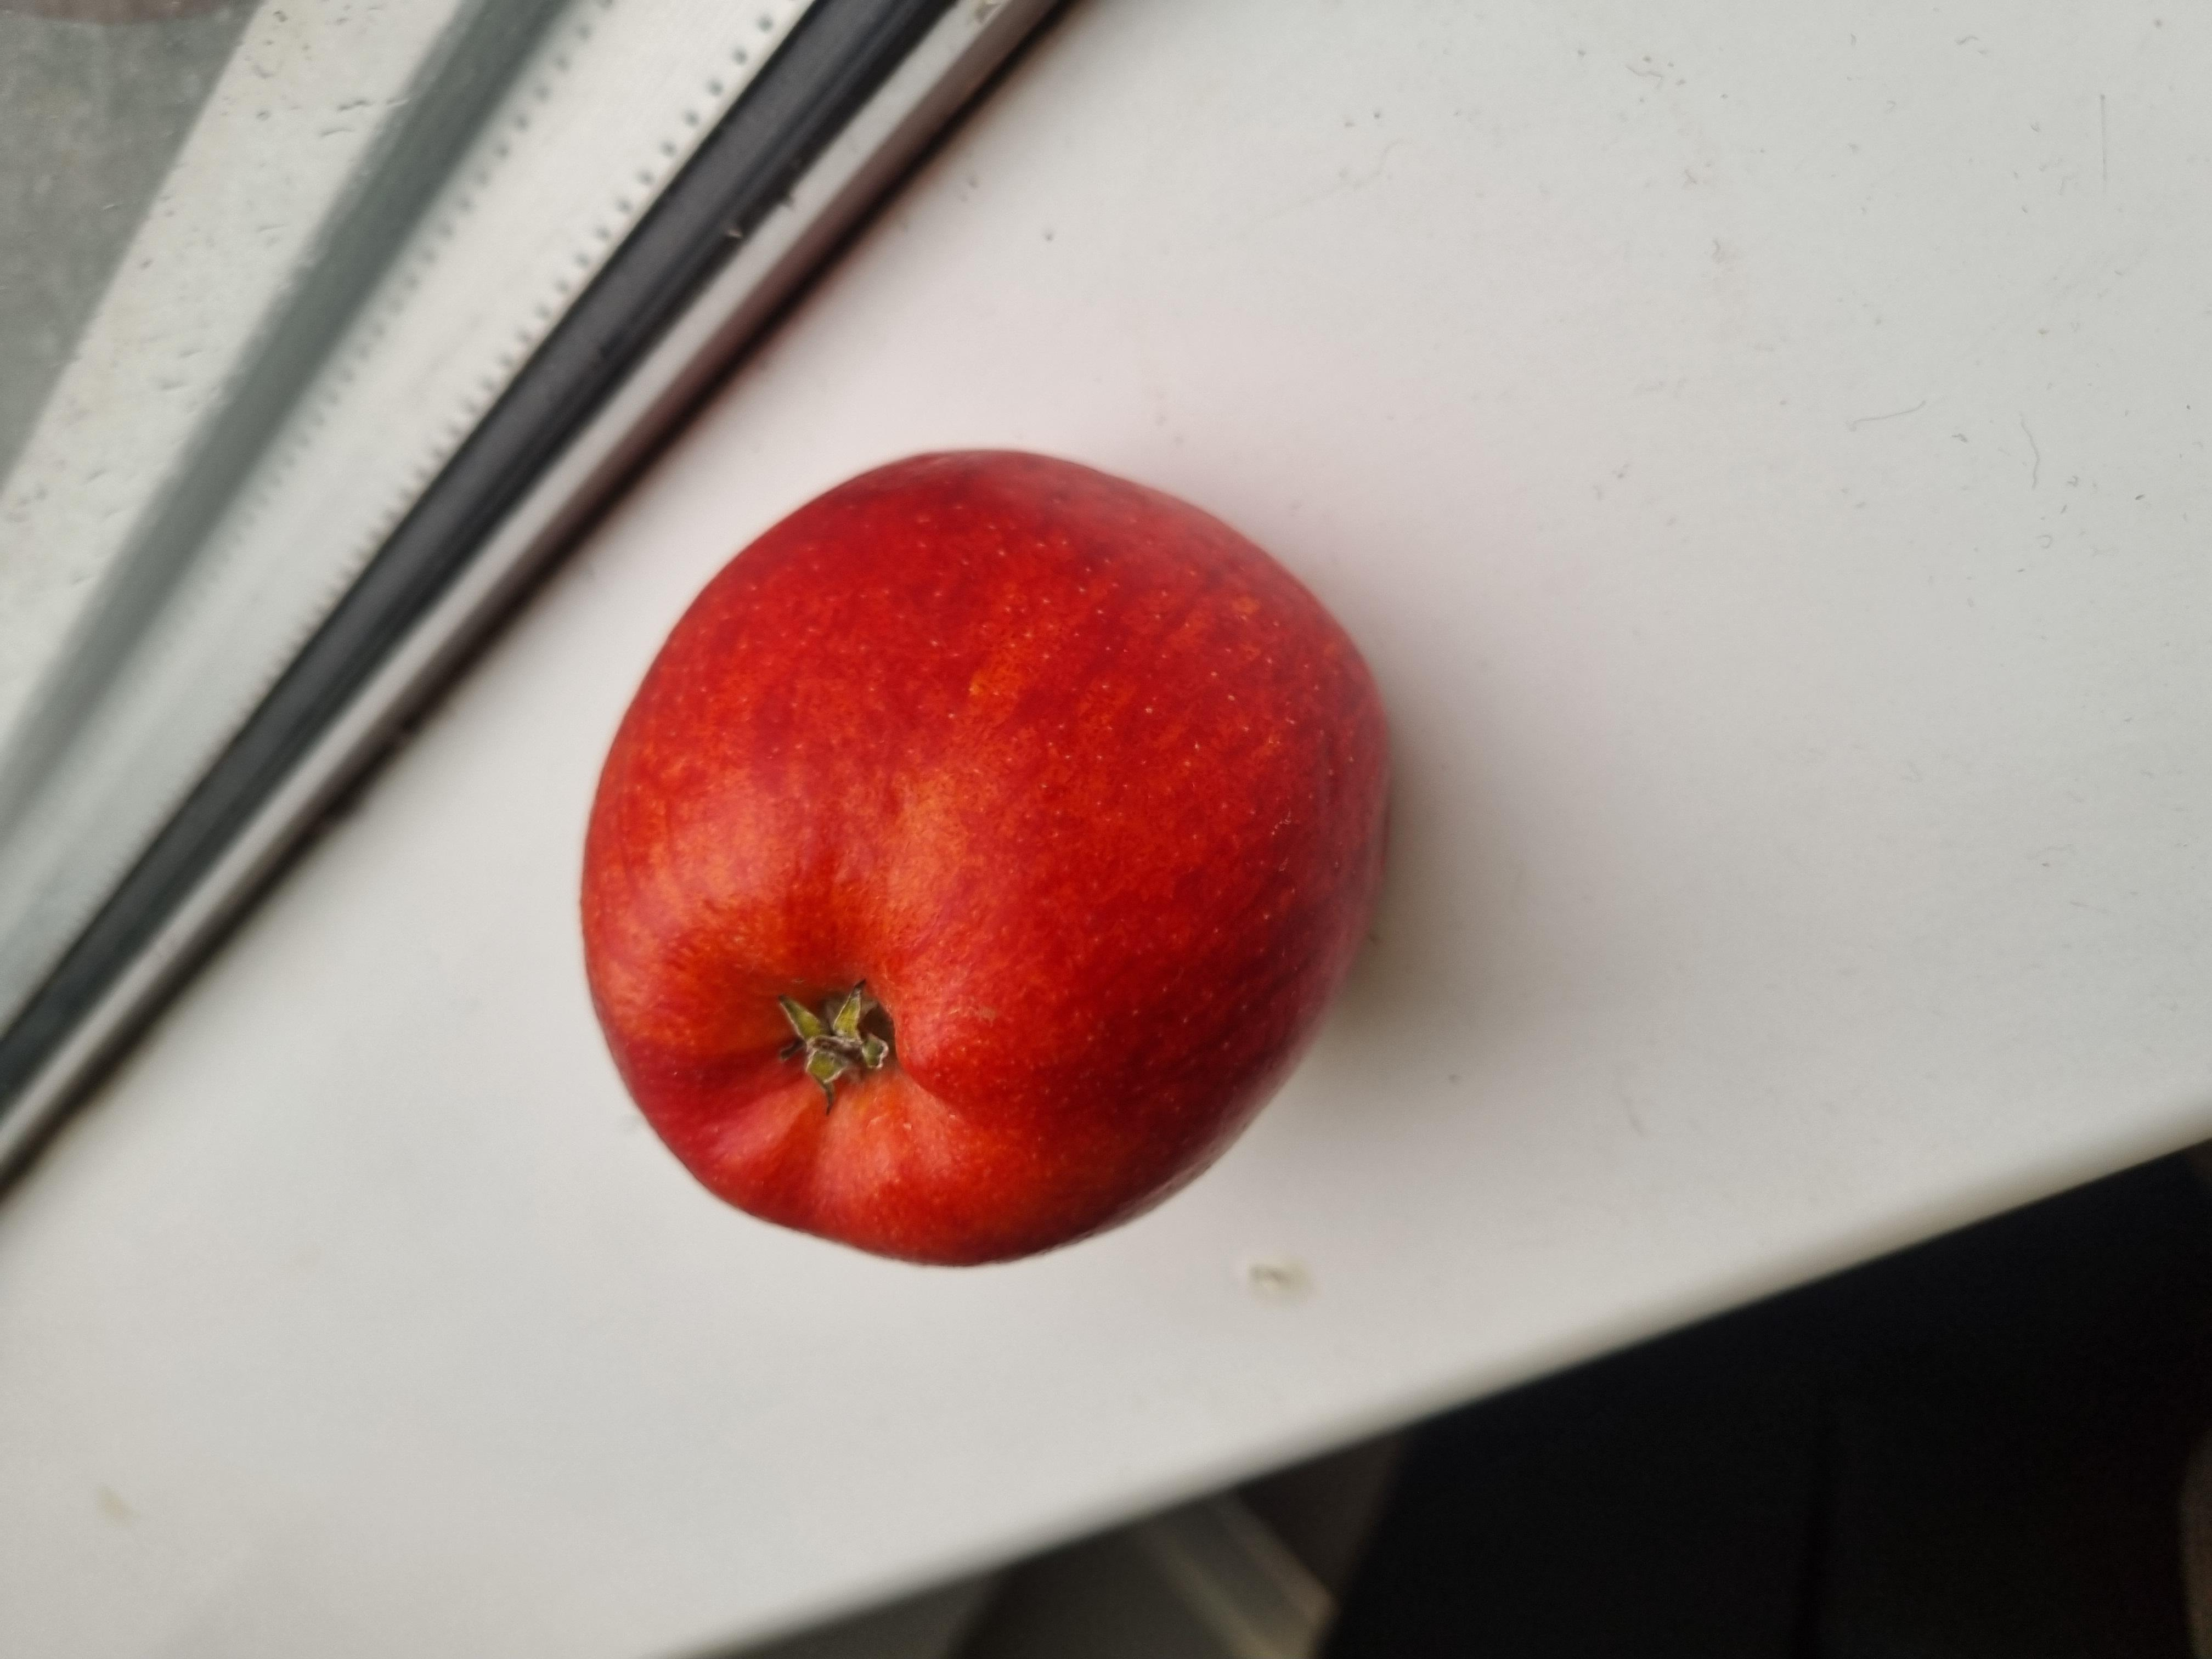Apple: (489, 420, 1648, 1066)
